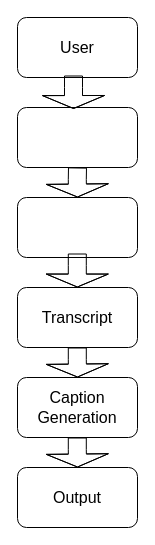
This 155x545 diagram has some shape labels left out. Each missing label, with the centre of its shape:
"Audio Input" belongs at (77,137).
"Transcription (Whisper)" belongs at (77,227).
